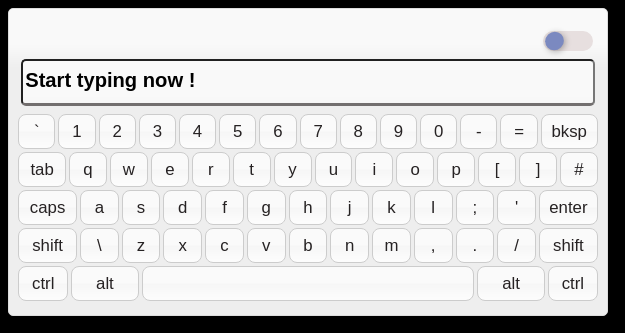
Test case: Keyboard › caps lock switches to the uppercase layout and remains active after typing a letter
The image size is (625, 333).
Press the mouse on the button "caps" at (48, 208), box 18,190 -> 77,225
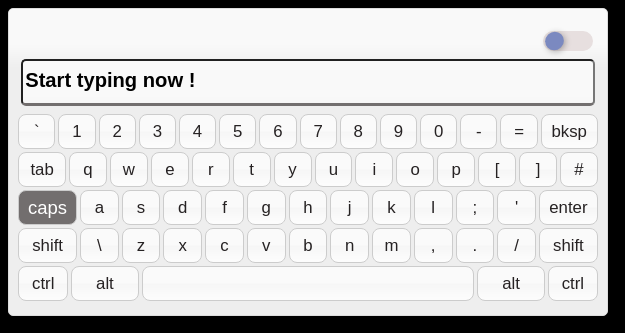
Click the button "caps" at (48, 208), box 18,190 -> 77,225
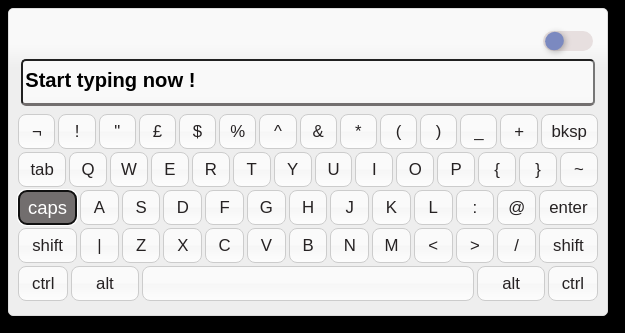
Click the button "A" at (99, 208), box 80,190 -> 119,225
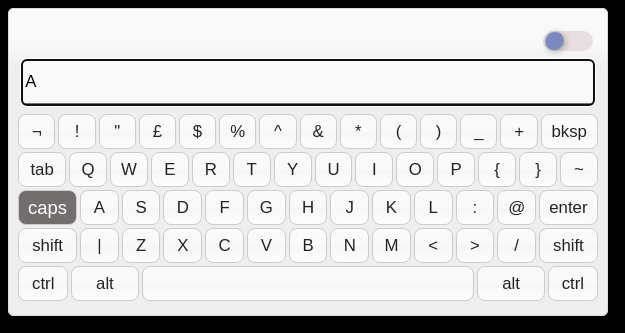
Check: the field with class "keyboard-input" holds "A", box 21,59 -> 595,106
